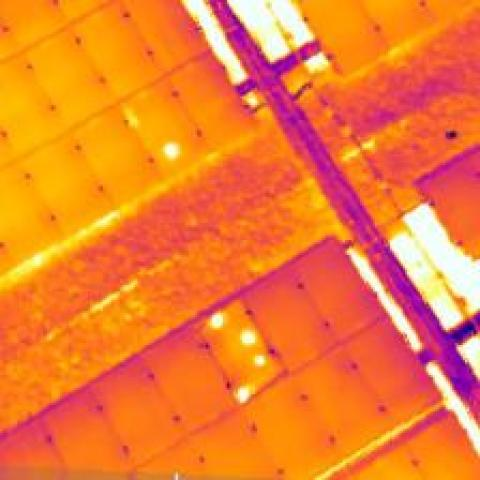fault: (227, 382, 255, 407), (120, 100, 141, 130), (204, 311, 225, 334), (236, 326, 259, 347), (161, 139, 182, 161), (251, 347, 268, 371)
